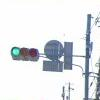traffic lights: (10, 46, 40, 61)
